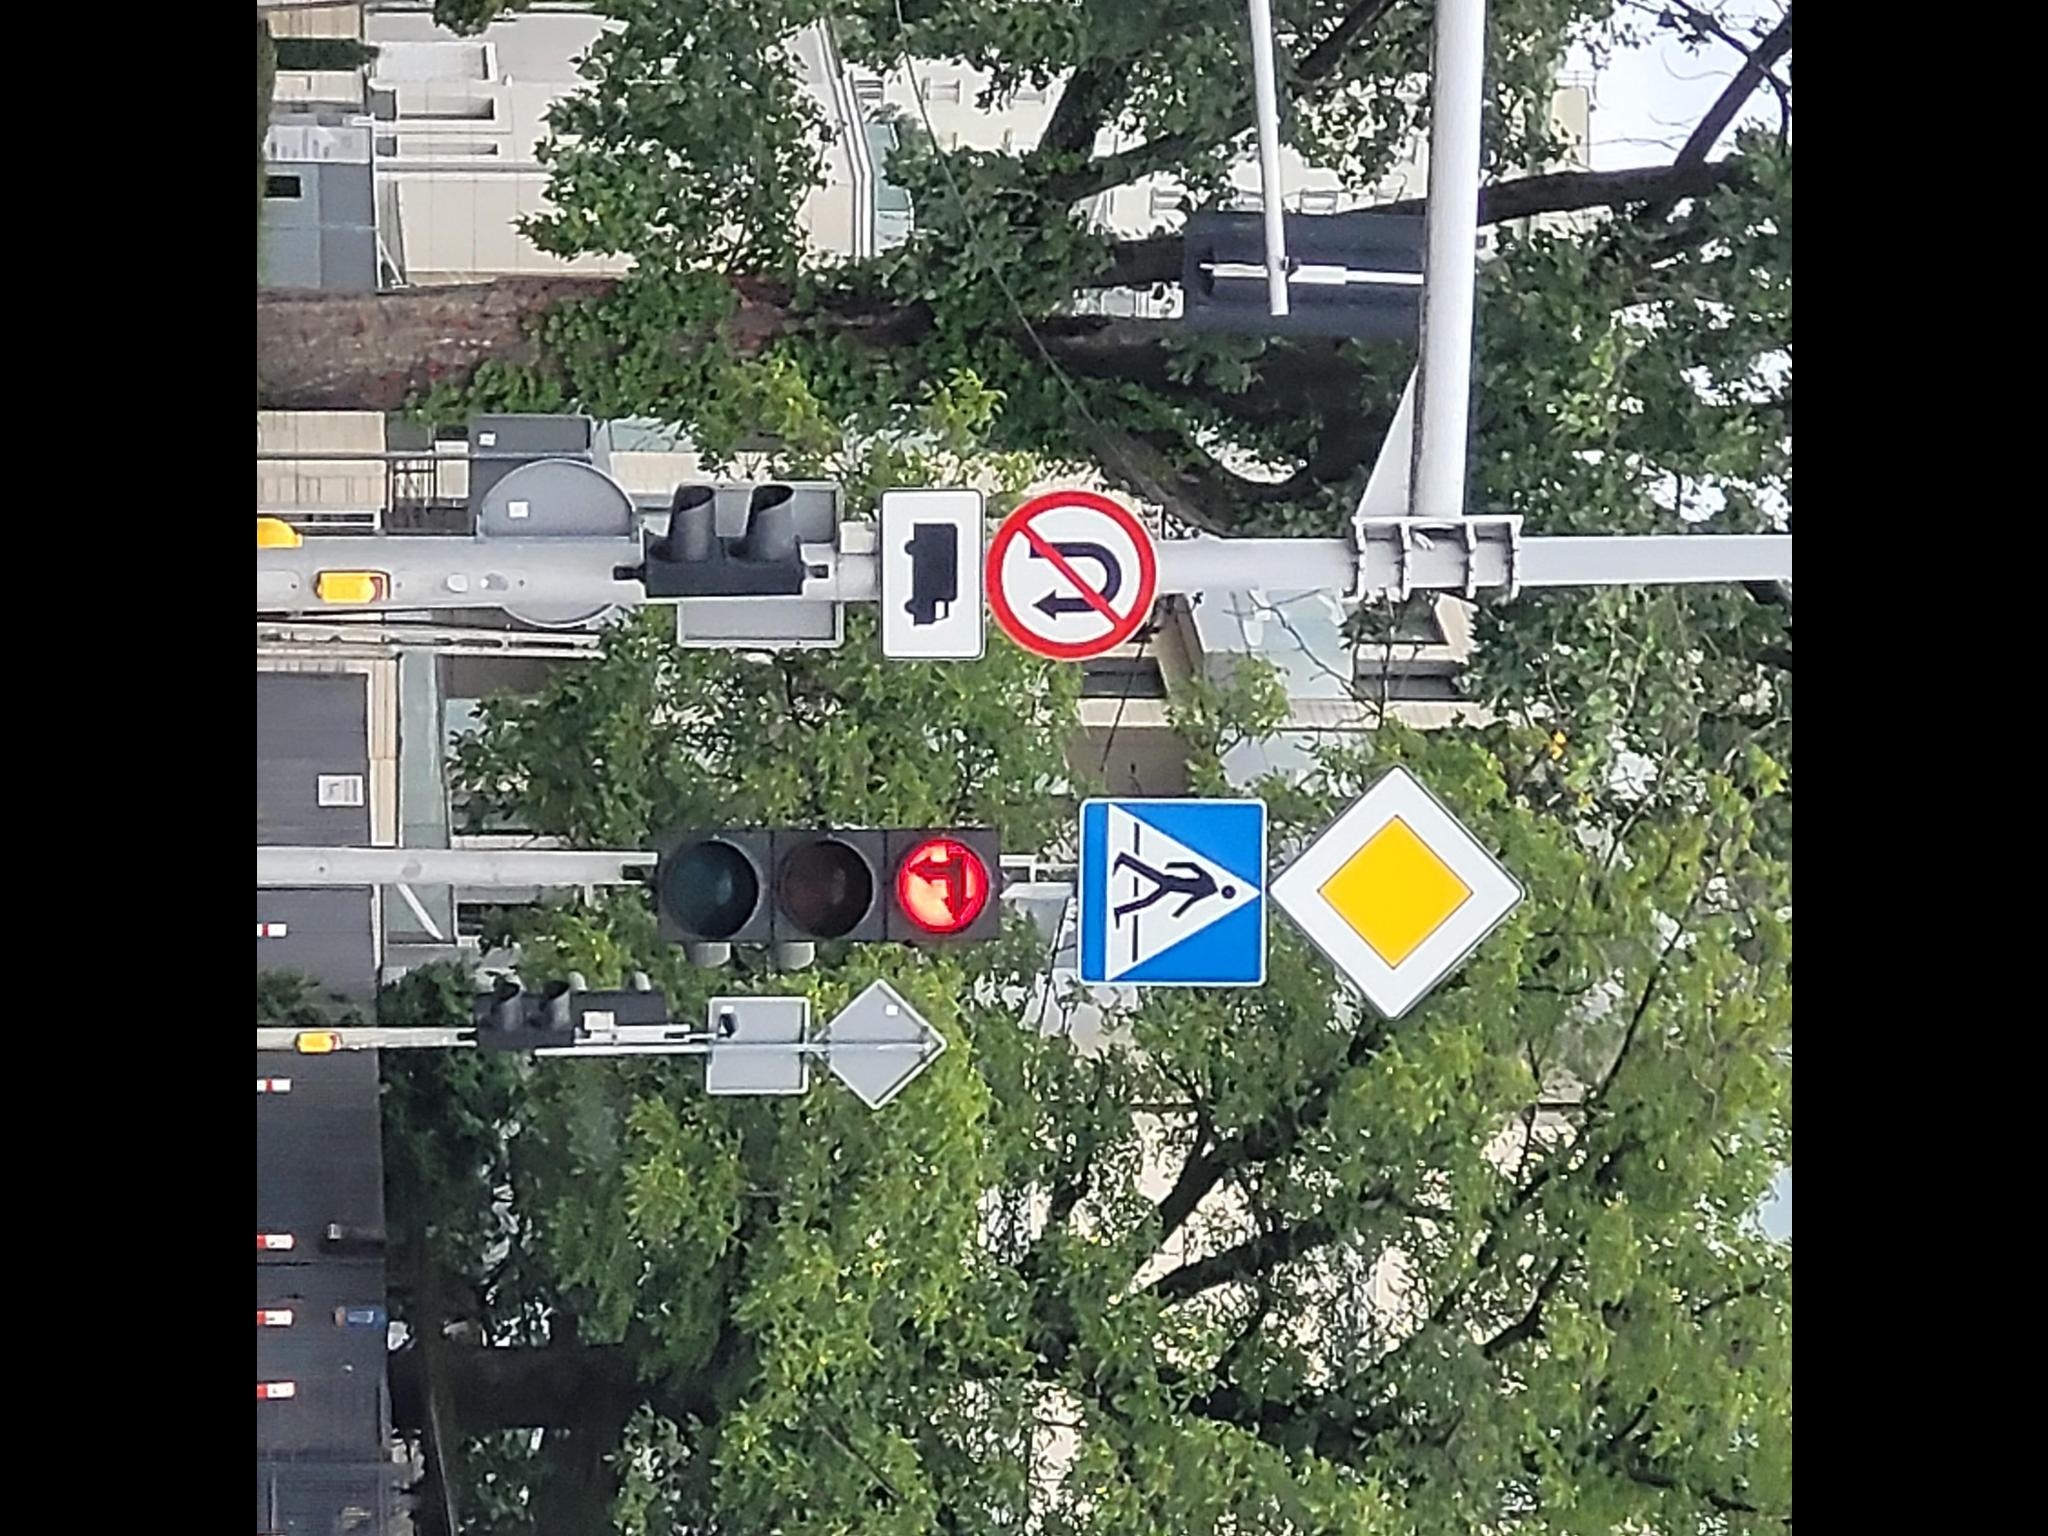information: (1264, 763, 1526, 1023), (1082, 799, 1264, 984)
other: (884, 490, 980, 657)
prohibitory: (984, 487, 1158, 662)
